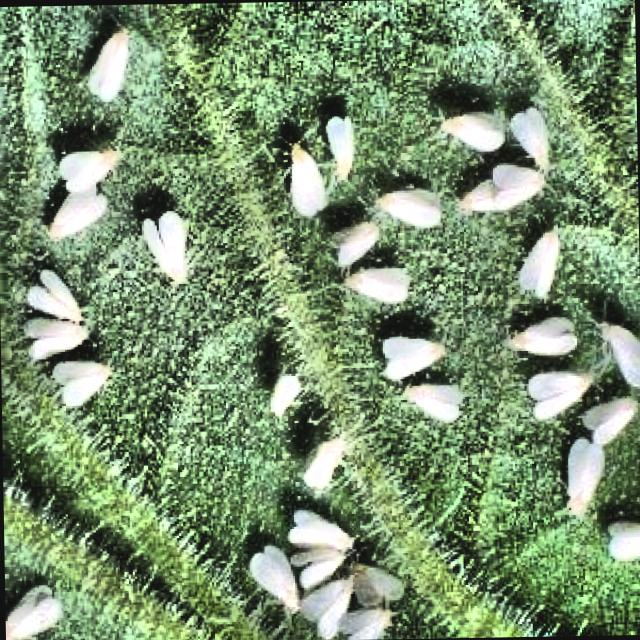whitefly: (132, 197, 194, 286), (271, 118, 324, 221), (55, 128, 132, 193), (24, 256, 100, 321), (78, 19, 138, 100), (5, 572, 74, 640), (558, 434, 610, 524), (242, 538, 298, 621), (46, 356, 120, 416), (512, 228, 573, 298), (289, 498, 362, 554), (520, 364, 595, 418), (494, 314, 582, 355), (378, 330, 453, 378), (298, 428, 353, 490), (594, 312, 640, 386), (342, 262, 416, 308), (318, 106, 361, 185), (399, 378, 467, 427), (378, 178, 444, 228), (46, 192, 112, 242), (489, 158, 550, 212), (581, 393, 640, 446), (322, 212, 381, 264), (27, 312, 92, 359), (438, 105, 504, 151), (304, 576, 355, 633), (506, 106, 557, 158), (259, 368, 308, 420), (291, 541, 353, 582), (450, 172, 502, 220), (354, 554, 402, 604), (340, 602, 400, 640), (603, 514, 640, 566)
